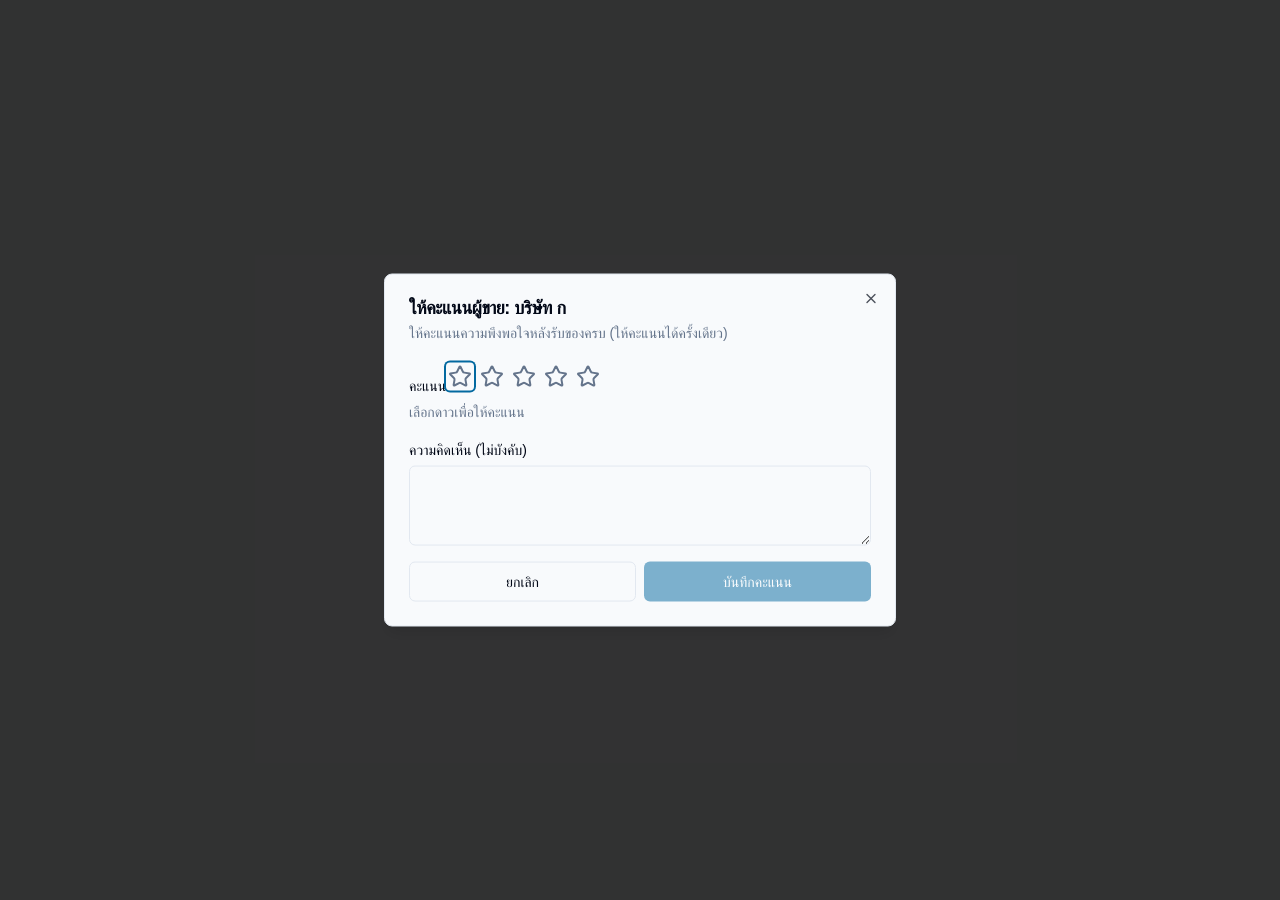
Test case: RateVendorDialog › disables submit until a score is selected
The width and height of the screenshot is (1280, 900).
Expected: the button "บันทึกคะแนน" is disabled, [644,562,871,602]
Step 1. Click the radio button named "4 ดาว" → (556, 376), box [542,362,570,390]
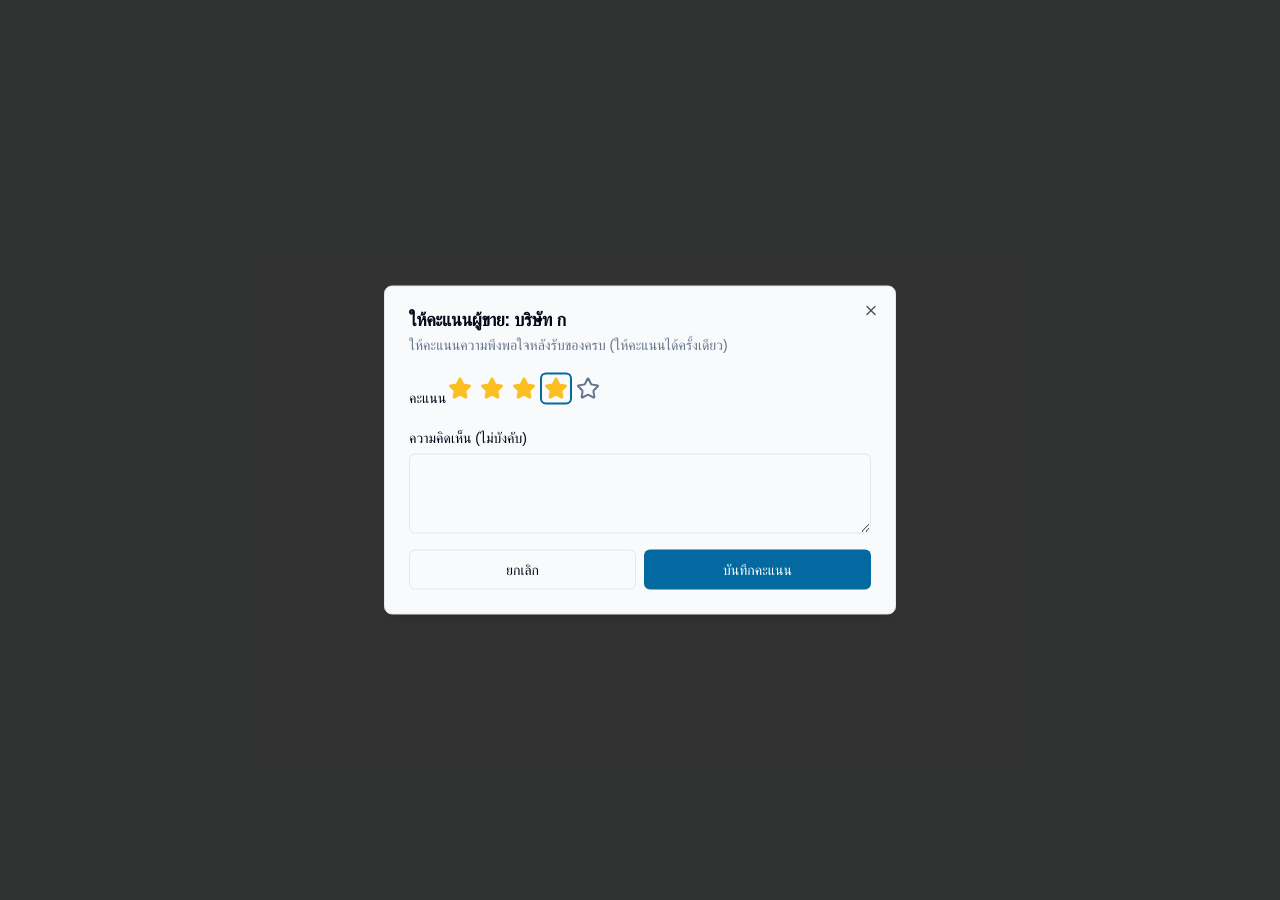
Now the button "บันทึกคะแนน" is enabled, box [644,550,871,590]
